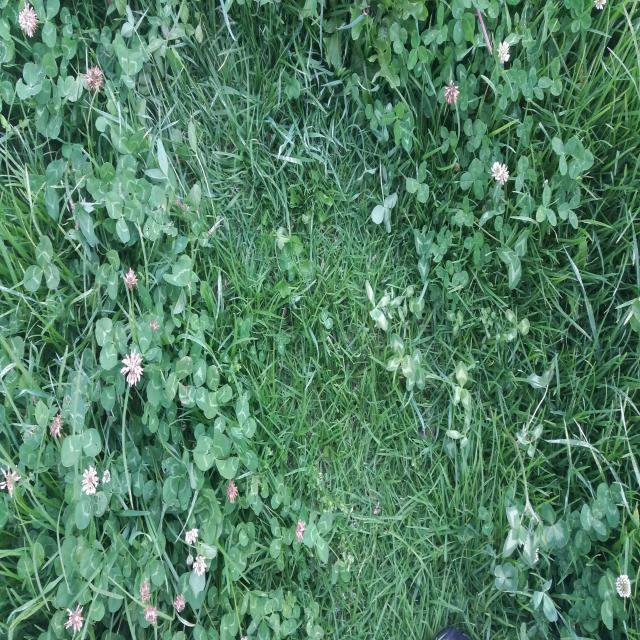Four Leaf Clover: (394, 280, 441, 334), (365, 280, 390, 331)
